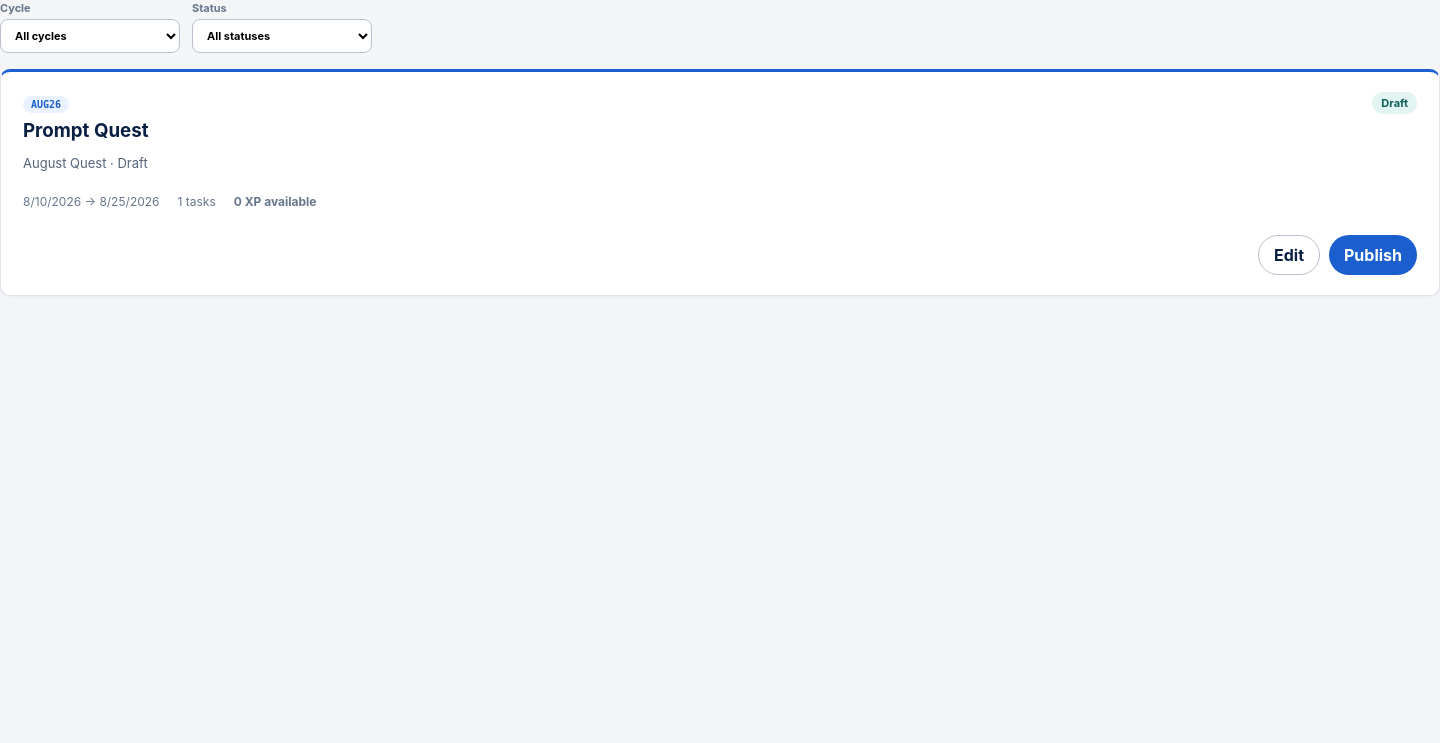
Test: manager challenge administration › handles ChallengeVersionConflict without replacing local draft
Step 1. Click the button "Edit" → coordinates (1289, 255), box x1=1258 y1=235 x2=1320 y2=275
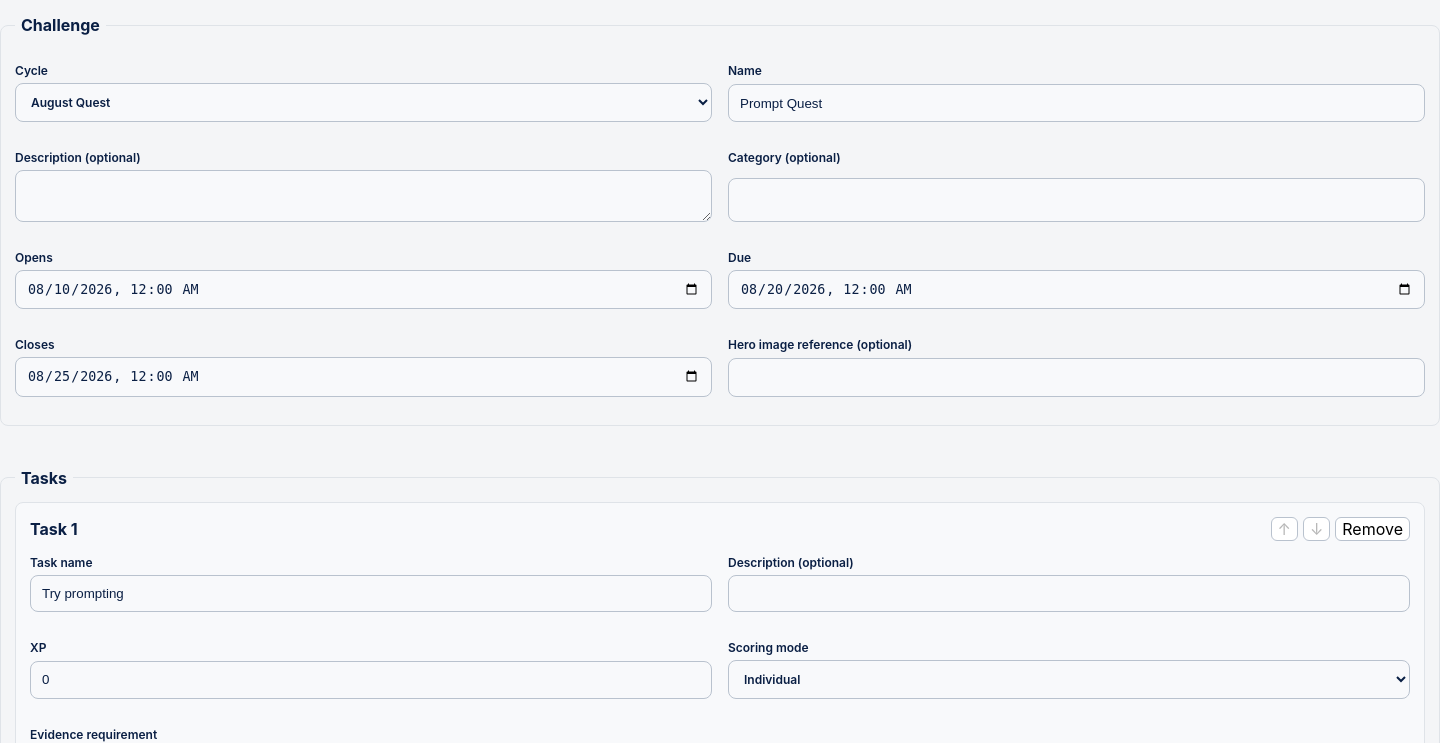
Step 2. Replace the text in the field labelled "Name" with "Local edit" → coordinates (1076, 103), box x1=728 y1=84 x2=1425 y2=122
(page scrolled)
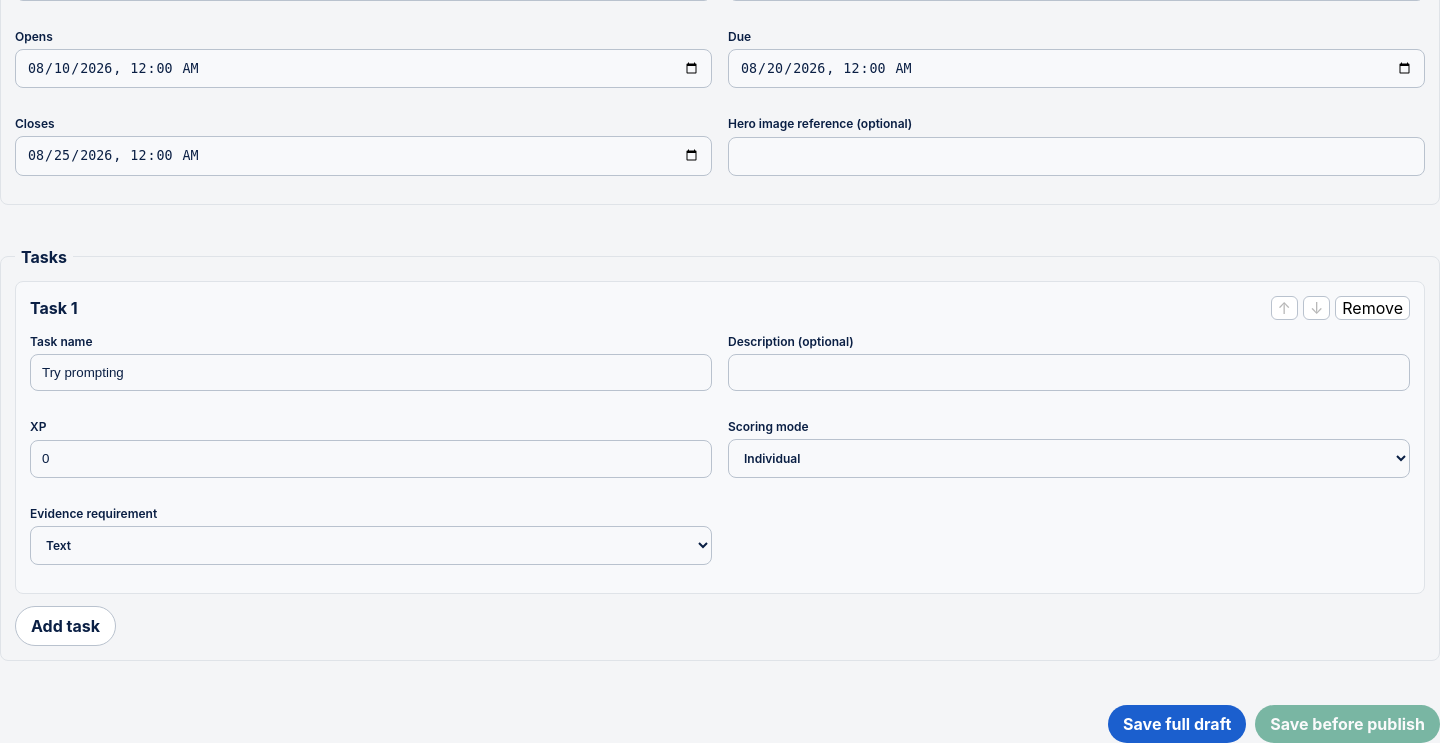
Step 3. Click the button "Save full draft" → coordinates (1177, 724), box x1=1108 y1=705 x2=1246 y2=742
(page scrolled)
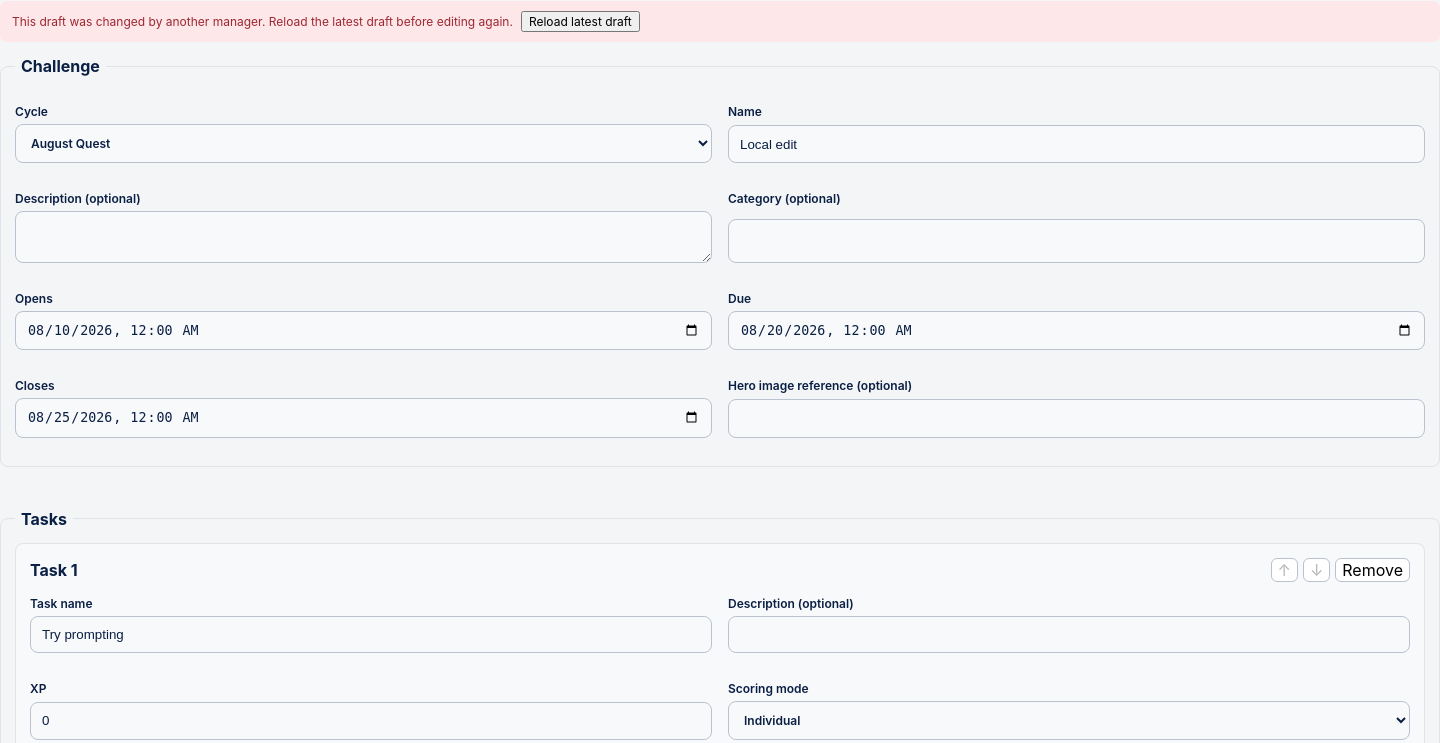
Now the message shows "changed by another manager", box x1=12 y1=14 x2=513 y2=29
Now the button "Reload latest draft" is shown, box x1=521 y1=11 x2=640 y2=32
